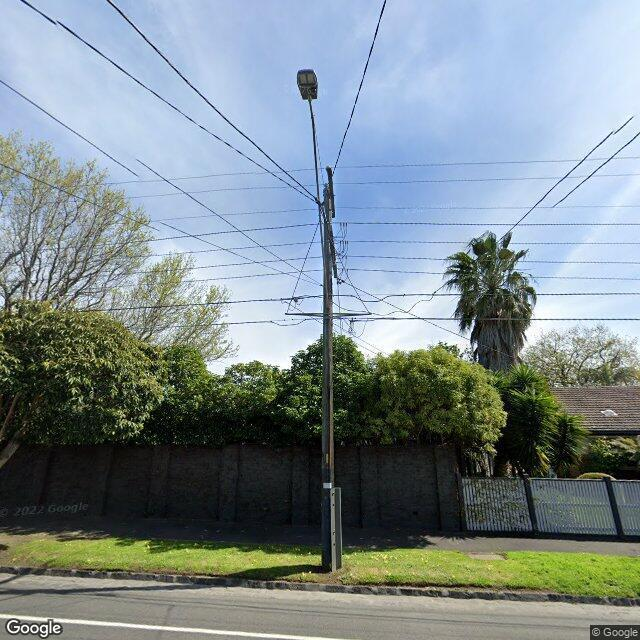crossarm: (328, 225, 338, 278), (326, 167, 334, 218)
streetlight: (296, 68, 329, 314)
timber-pole: (321, 188, 335, 572)
